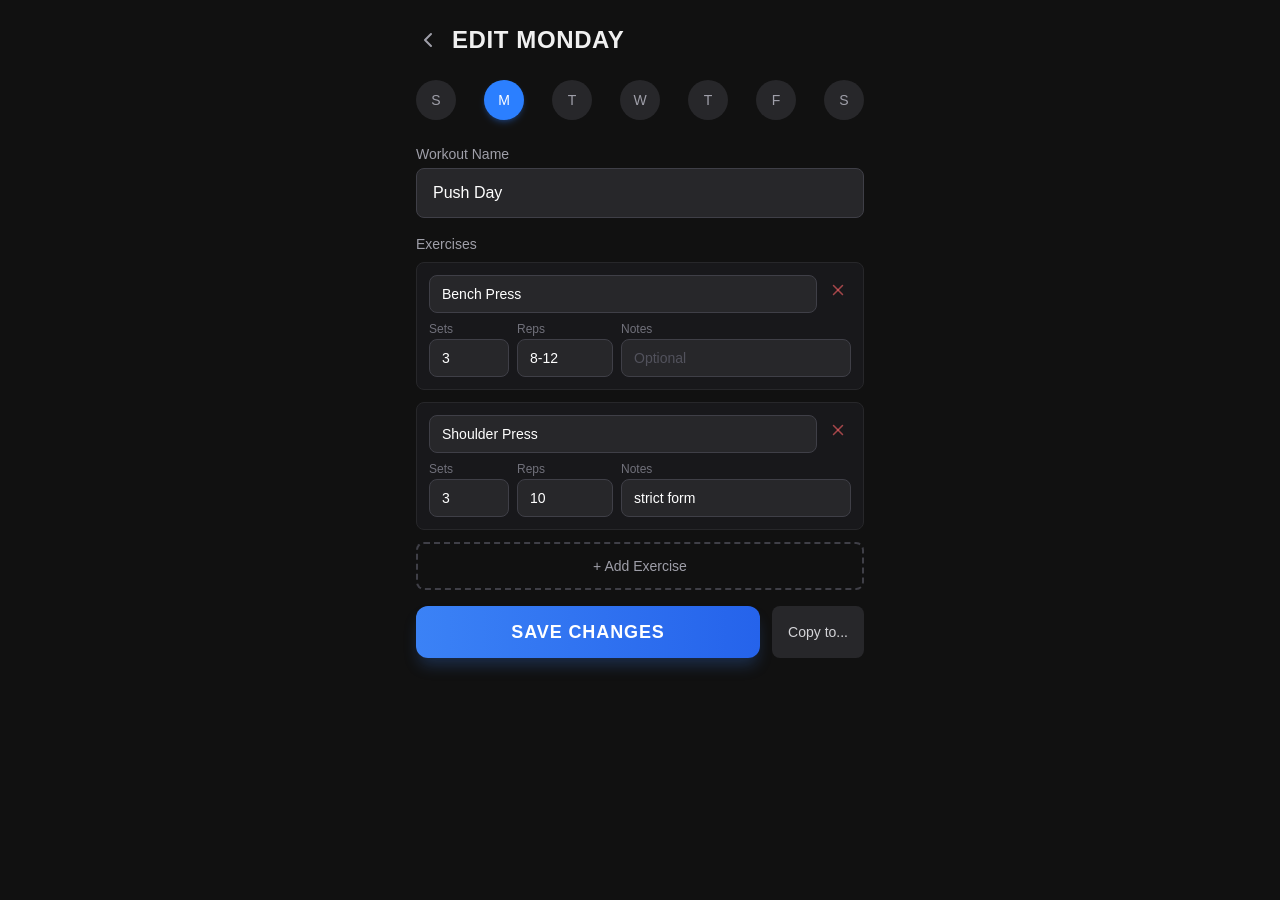
ScheduleEditPage - Copy to Day › closes the modal when Cancel is clicked
Click the button "Copy to...": (818,632) x1=772 y1=606 x2=864 y2=658
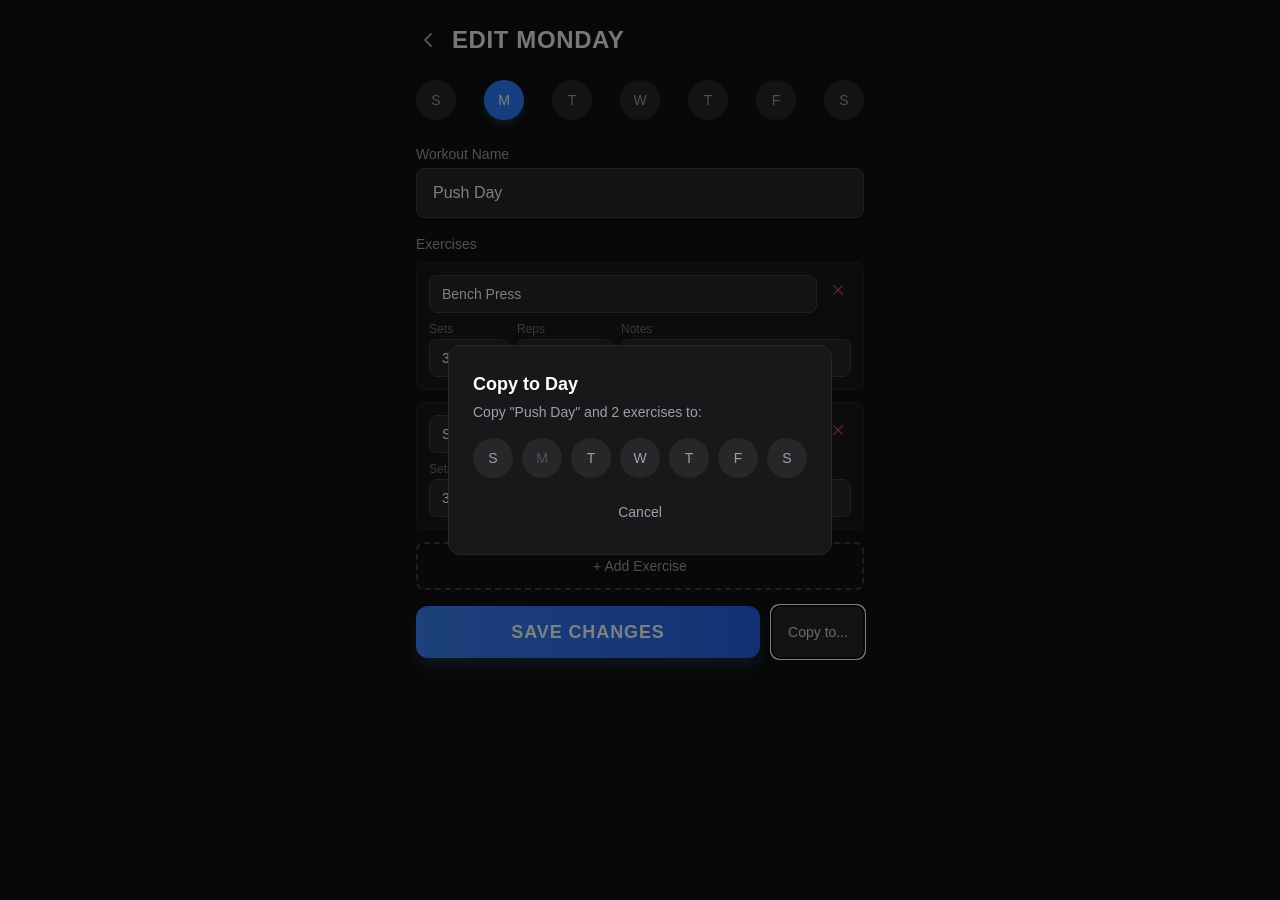
Expected: the heading "Copy to Day" is shown, x1=473 y1=374 x2=578 y2=394
Click the button "Cancel": (640,512) x1=473 y1=494 x2=807 y2=530
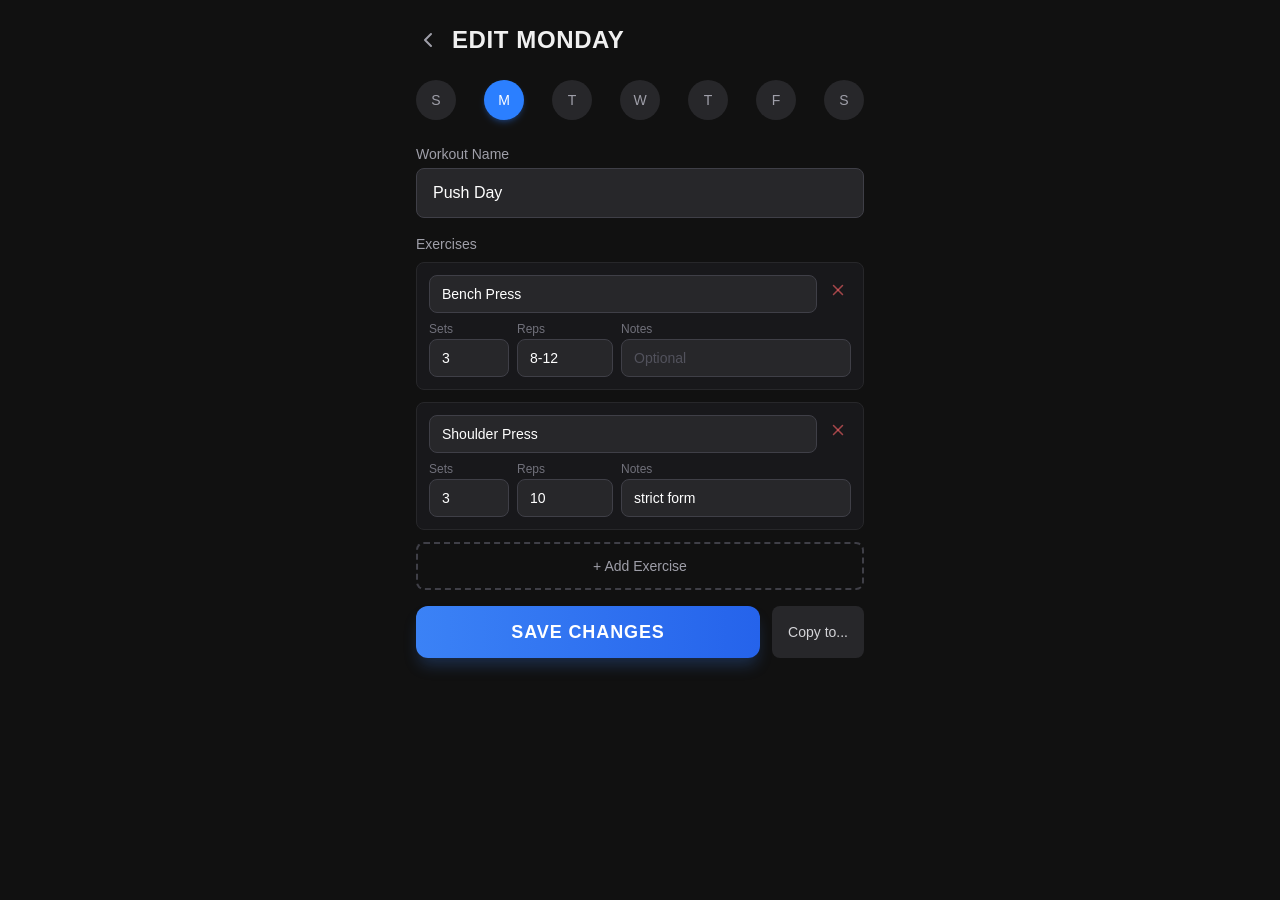
Expected: the heading "Copy to Day" is gone
